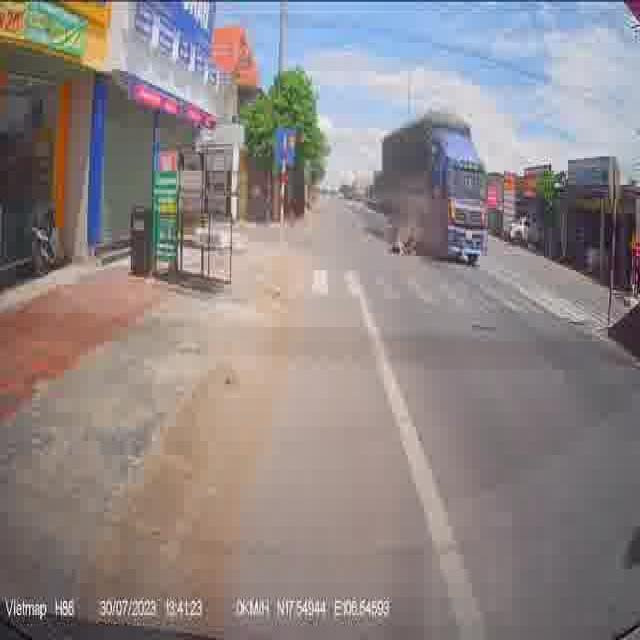multiple_accident: (378, 105, 490, 268)
